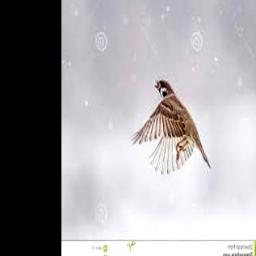Sparrow: (129, 79, 211, 175)
